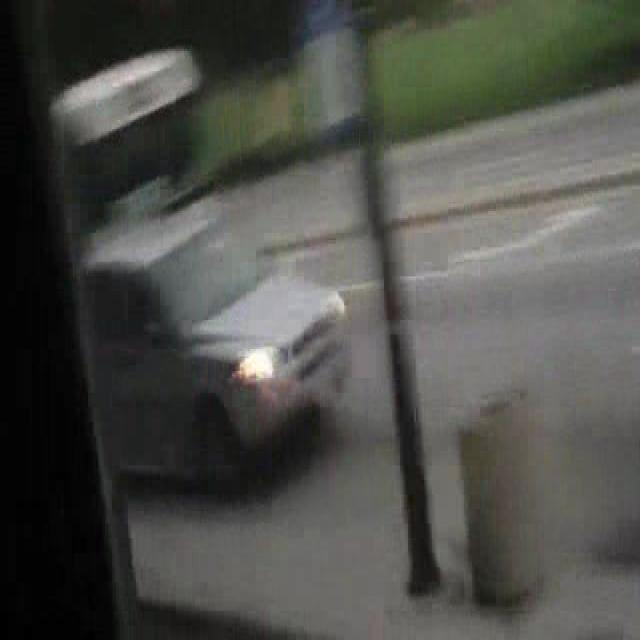other: (227, 337, 280, 397), (319, 280, 352, 330)
